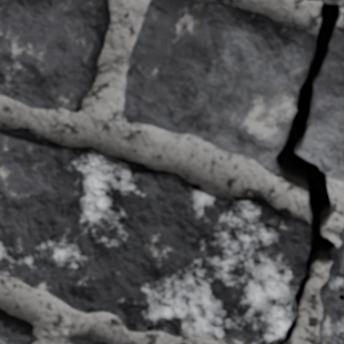brick: (0, 128, 309, 343), (0, 0, 108, 111), (318, 229, 343, 343), (0, 309, 32, 343), (63, 334, 108, 343), (323, 0, 343, 4)
broken_brick: (123, 0, 312, 175), (299, 28, 343, 181)
crack: (274, 1, 343, 343)
